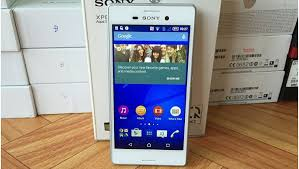sony: (107, 1, 195, 167)
